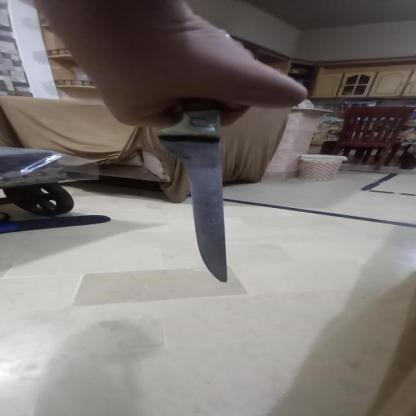Knife: (113, 44, 299, 290)
